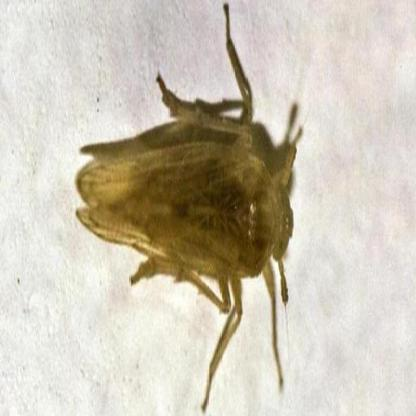brown-planthopper: (81, 93, 301, 310)
